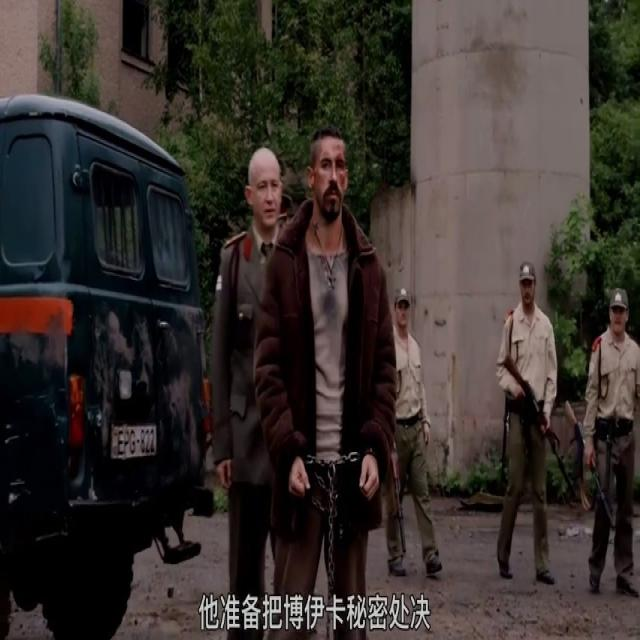non-fight: (253, 128, 398, 640), (211, 147, 289, 638), (481, 253, 572, 588), (572, 282, 639, 602), (386, 291, 441, 579)
